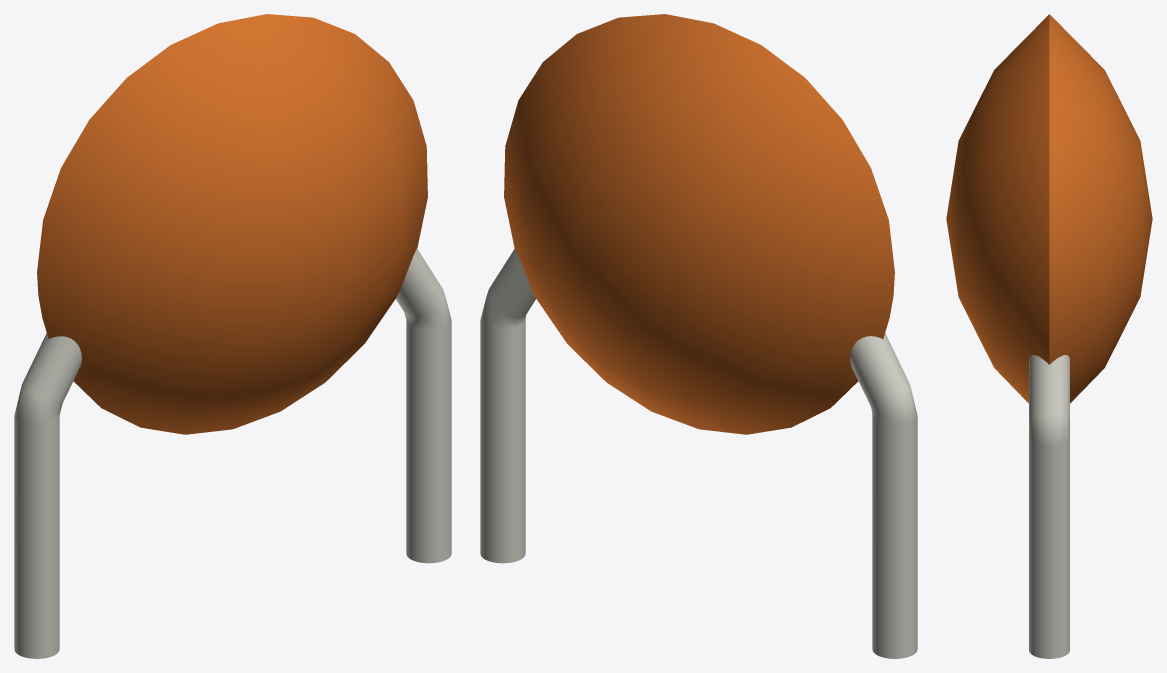
Rendered from Capacitor_THT__C_Disc_D5.0mm_W2.5mm_P5.00mm.glb.
3 renders of one model, left to right at view 1: azimuth 30°, elevation 25°; view 2: azimuth 150°, elevation 25°; view 3: azimuth 270°, elevation 25°, orthographic. The views are drawn at different scales.
Visible parts, largest first — view 1: C_Disc_D50mm_W25mm_P500mm; view 2: C_Disc_D50mm_W25mm_P500mm; view 3: C_Disc_D50mm_W25mm_P500mm.
Part boxes in pixels (x1,y1,x2,y2): C_Disc_D50mm_W25mm_P500mm: [14, 14, 451, 658]; C_Disc_D50mm_W25mm_P500mm: [480, 14, 917, 658]; C_Disc_D50mm_W25mm_P500mm: [946, 14, 1152, 658].
Size of the model in its own units: 0.0055 by 0.00709 by 0.0025.
